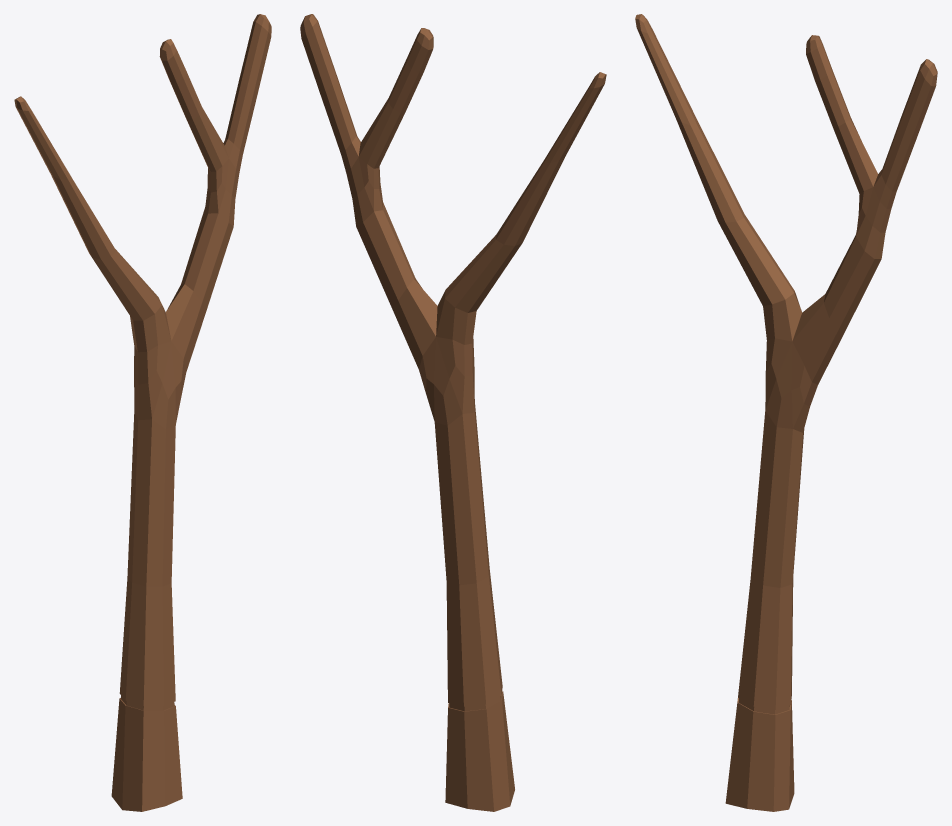
File: tree-summer-trunk-2-003.glb
3 renders of one model, left to right at view 1: azimuth 30°, elevation 25°; view 2: azimuth 150°, elevation 25°; view 3: azimuth 330°, elevation 25°, orthographic. The views are drawn at different scales.
Visible parts, largest first — view 1: Trunk 2_109; view 2: Trunk 2_109; view 3: Trunk 2_109.
Boxes of the visible parts, left/top/right/bottom form: Trunk 2_109: left=14, top=14, right=271, bottom=811; Trunk 2_109: left=300, top=14, right=606, bottom=811; Trunk 2_109: left=635, top=14, right=937, bottom=811.
Bounding box in the file's own units: 0.5541 × 1.44 × 0.1558.
